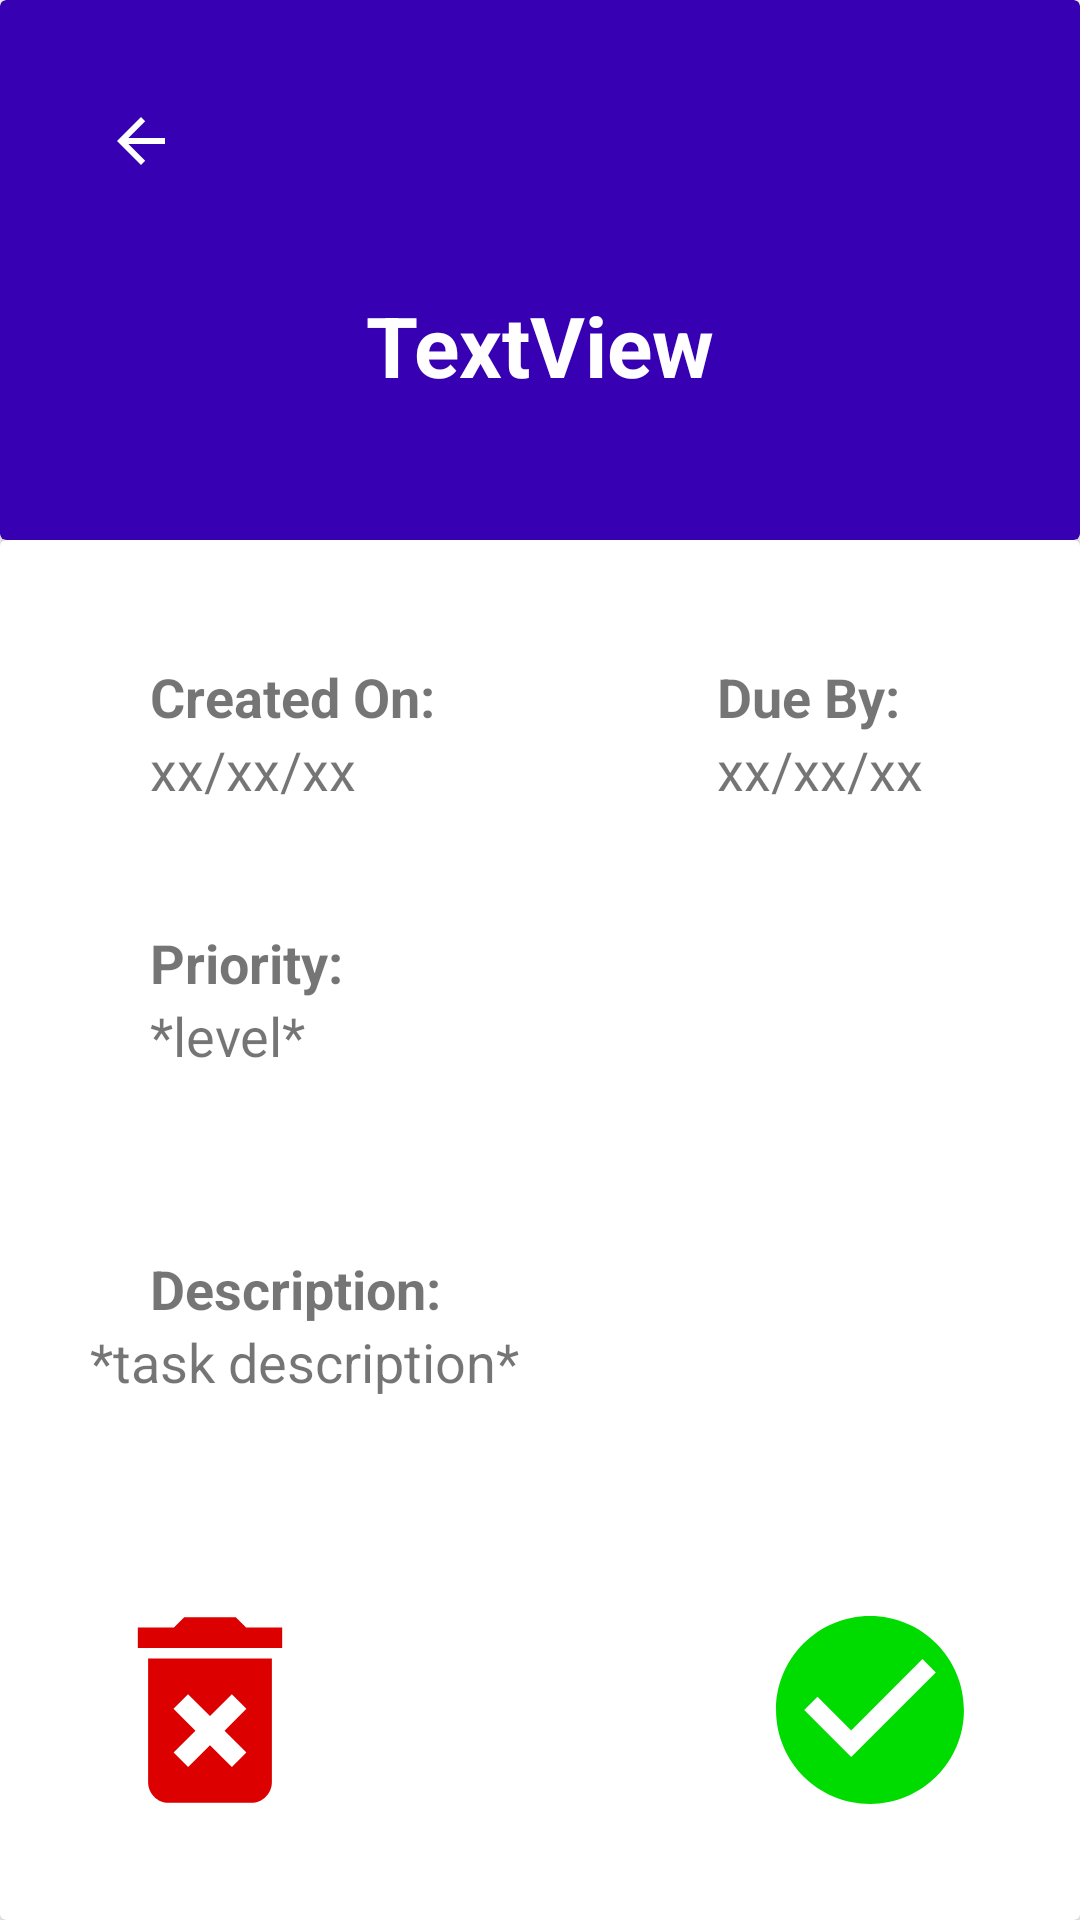

Icon click points for this 1080*1920 phone screenshot, format point (x, y):
checkcircle: point (870, 1710)
deletebin: point (210, 1710)
